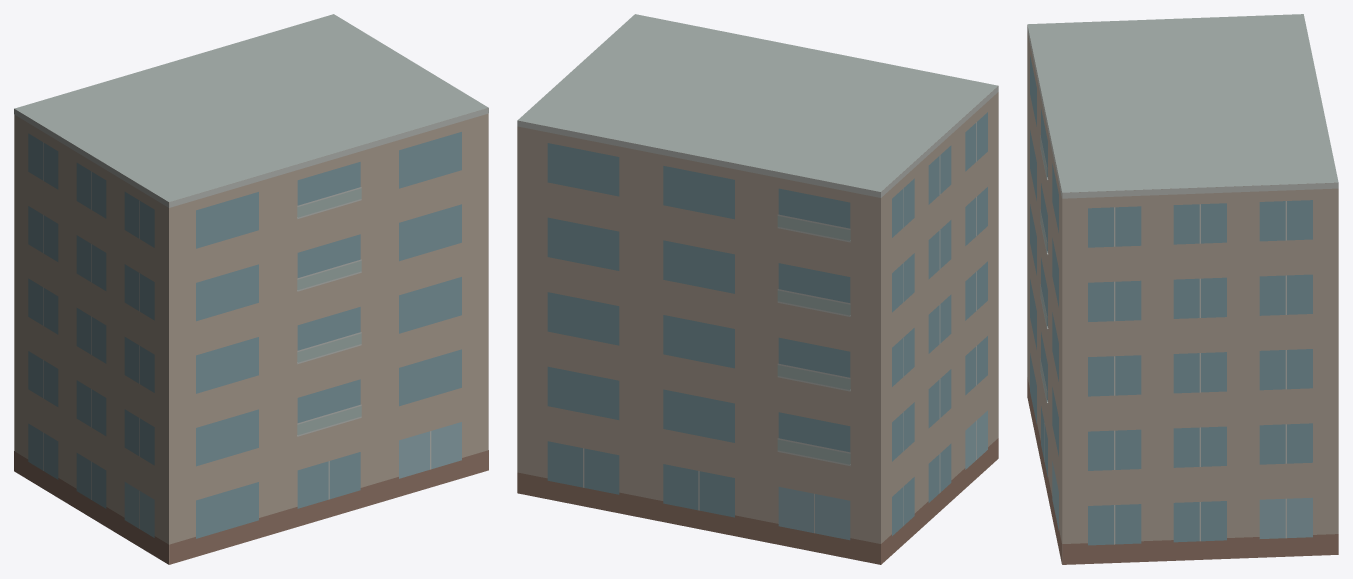
Rendered from survey-upis-33021092.glb.
3 renders of one model, left to right at view 1: azimuth 30°, elevation 25°; view 2: azimuth 150°, elevation 25°; view 3: azimuth 270°, elevation 25°, orthographic. The views are drawn at different scales.
Parts seen in each view (by area): view 1: survey-upis-33021092.tmp; view 2: survey-upis-33021092.tmp; view 3: survey-upis-33021092.tmp.
Part boxes in pixels (left/top/right/bottom): survey-upis-33021092.tmp: left=14, top=14, right=488, bottom=564; survey-upis-33021092.tmp: left=517, top=14, right=998, bottom=564; survey-upis-33021092.tmp: left=1027, top=14, right=1338, bottom=564.
Bounding box in the file's own units: 15.72 × 15.25 × 11.57.
